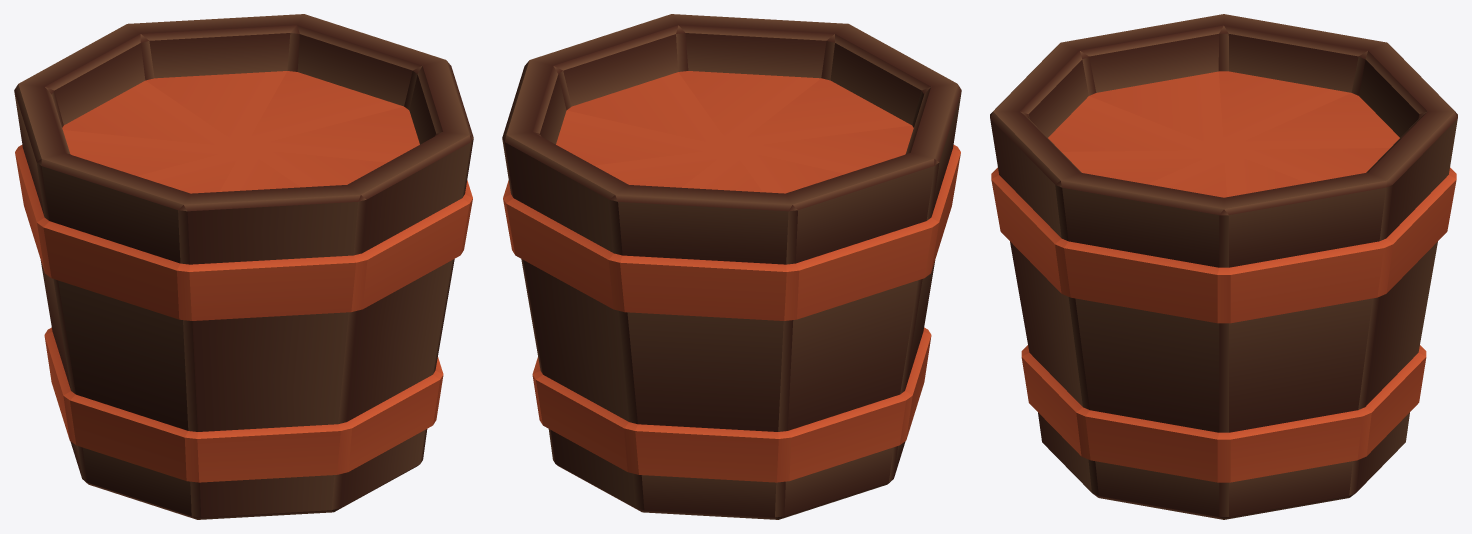
Rendered from COPPER BUCKET.fbx.
3 views of the same model, side by side, from view 1: azimuth 30°, elevation 25°; view 2: azimuth 150°, elevation 25°; view 3: azimuth 270°, elevation 25° (orthographic).
Visible parts, largest first — view 1: Barell; view 2: Barell; view 3: Barell.
Boxes of the visible parts, box(x1,y1,x2,y2) form: Barell: box(14, 14, 473, 519); Barell: box(502, 14, 961, 519); Barell: box(990, 14, 1457, 519).
Bounding box in the file's own units: 49.78 × 39.15 × 49.78.
